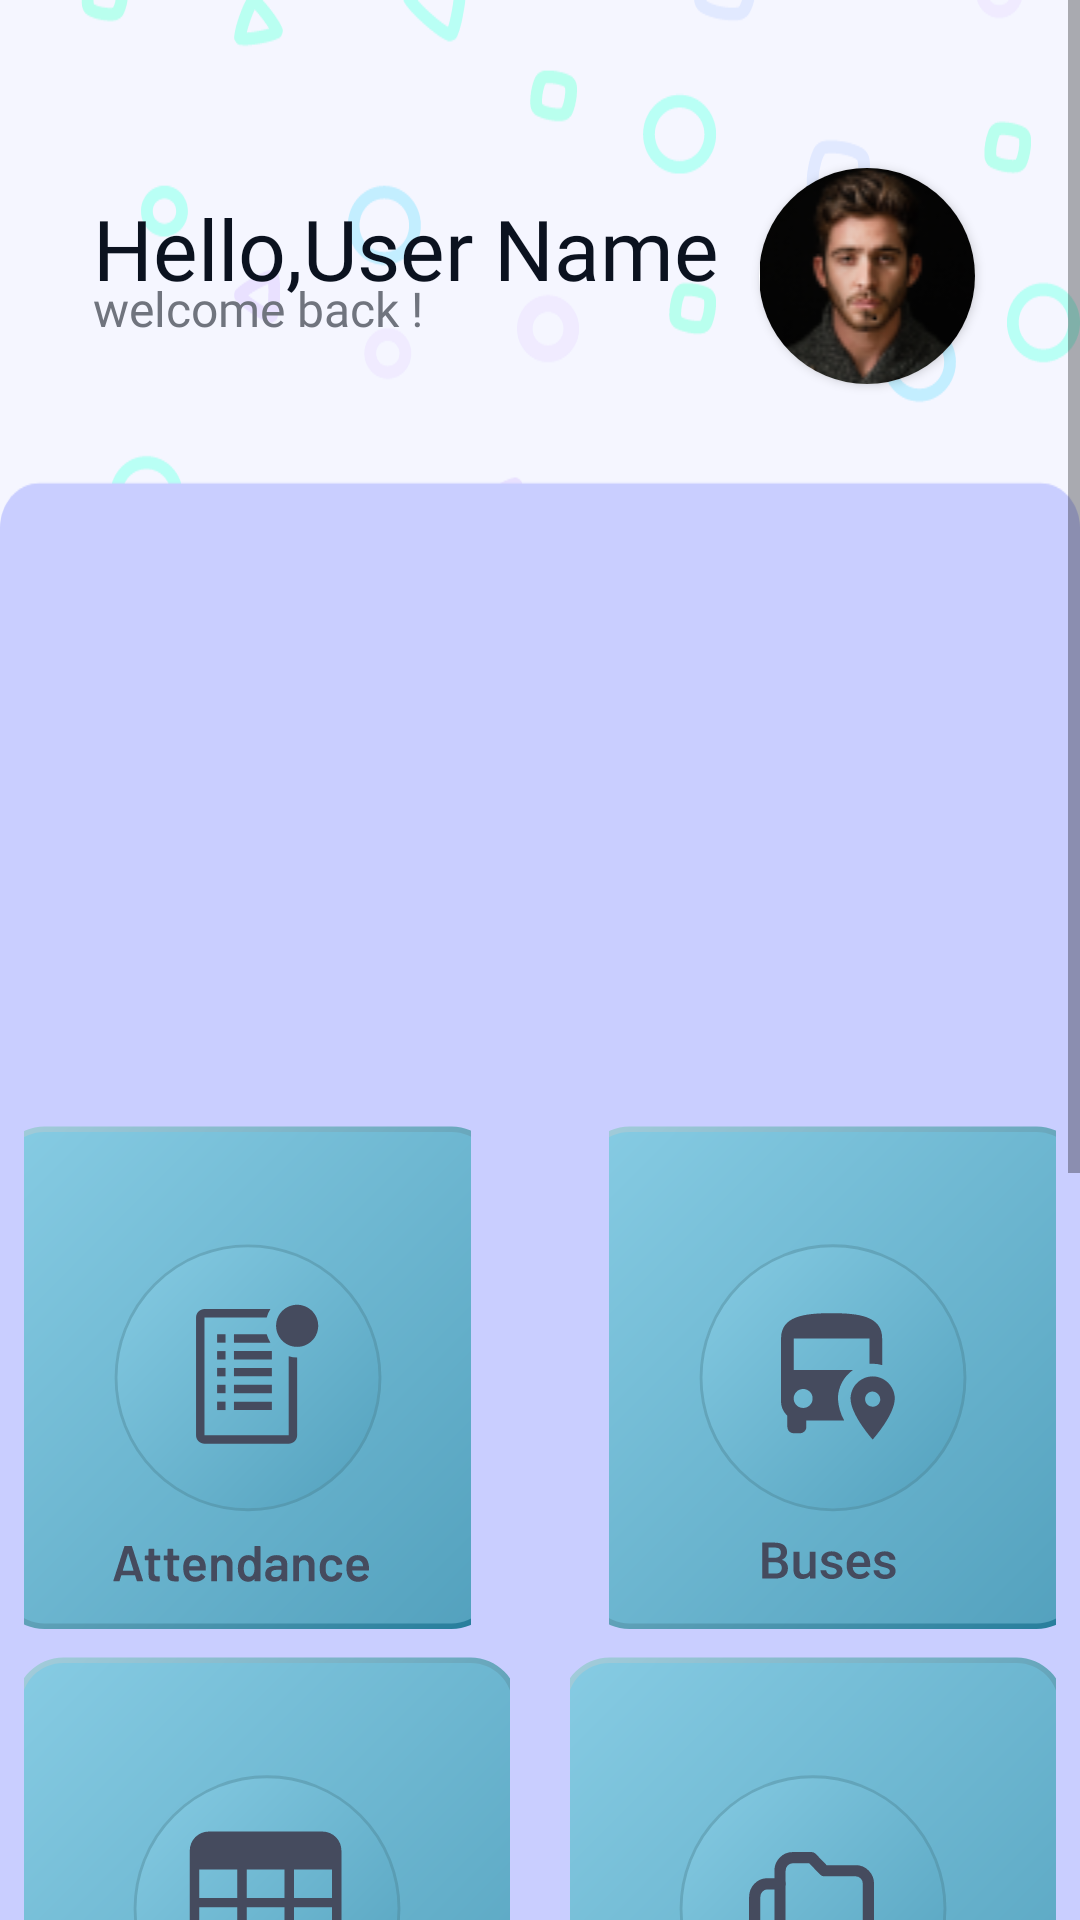

Icon bounding boxes for this 1080*1920 phone screenshot, format (x1, y1, x2, y2):
men profile: (760, 168, 975, 384)
